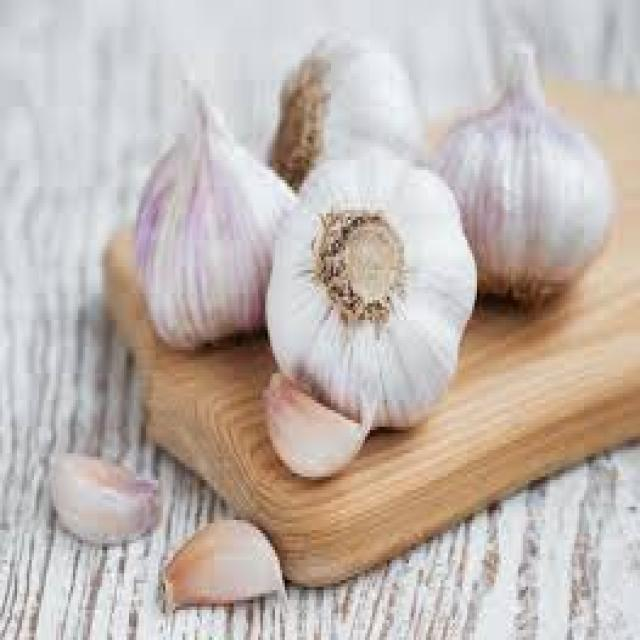Garlic: (253, 144, 464, 420), (118, 86, 332, 355), (424, 53, 610, 313), (263, 40, 444, 213), (136, 490, 308, 618), (32, 441, 161, 572), (256, 357, 371, 499)
